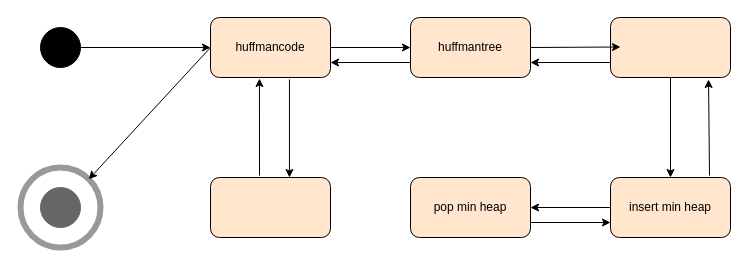
Some shapes in this 748 by 268 pixel diagram are drawn without their labels. The centre of each missing label's shape, as x and y in pixels:
"create and build minheap" belongs at (670,47).
"print huffman code" belongs at (270,207).
